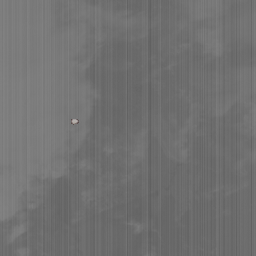Target: (70, 118, 79, 126)
